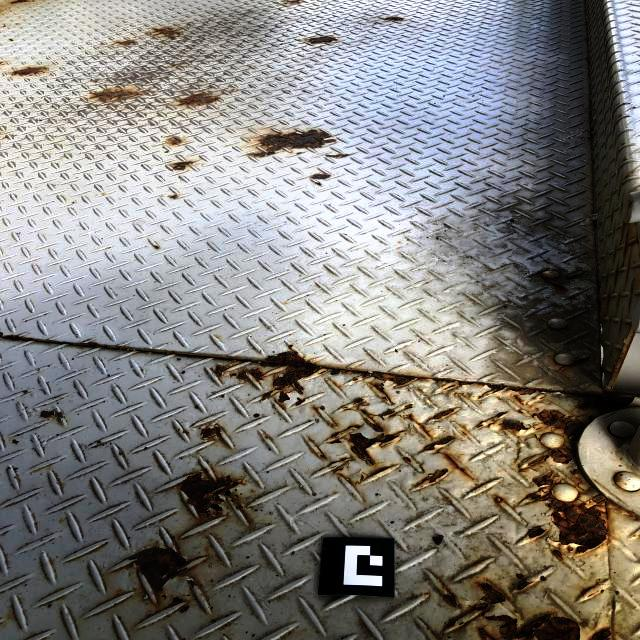Corrosion: (527, 469, 608, 555), (473, 578, 582, 640), (327, 409, 402, 466), (262, 350, 325, 404), (180, 468, 242, 516), (342, 370, 419, 405), (132, 546, 190, 592), (247, 128, 335, 157), (529, 408, 595, 446), (478, 383, 538, 407), (609, 331, 636, 383), (577, 394, 635, 410), (530, 447, 575, 466), (88, 89, 142, 103), (406, 413, 430, 438), (435, 379, 481, 391), (446, 455, 471, 477), (213, 360, 245, 377), (176, 93, 219, 105), (425, 436, 456, 452), (501, 417, 530, 434), (426, 468, 450, 485), (10, 65, 47, 76), (199, 424, 222, 441), (311, 439, 328, 460), (305, 34, 338, 44), (152, 27, 182, 38), (514, 579, 533, 593), (370, 465, 392, 477), (172, 160, 195, 171), (432, 408, 455, 419), (528, 526, 547, 539), (38, 410, 64, 419), (442, 592, 458, 606), (250, 368, 266, 382), (309, 173, 331, 181), (167, 136, 183, 146), (324, 153, 350, 159), (570, 358, 586, 367), (384, 16, 405, 22), (446, 620, 458, 630), (119, 39, 136, 45), (190, 580, 200, 590), (171, 597, 185, 604), (552, 281, 564, 289), (554, 550, 563, 560), (284, 0, 301, 5), (352, 397, 364, 404), (496, 412, 508, 419), (496, 496, 505, 505), (237, 372, 248, 379), (9, 0, 28, 4), (167, 194, 179, 200), (616, 473, 624, 482), (403, 456, 412, 463), (404, 403, 413, 410), (314, 181, 323, 187), (341, 457, 351, 462), (11, 439, 20, 444), (182, 429, 190, 434), (96, 439, 102, 444), (21, 389, 28, 393), (232, 372, 237, 377), (518, 410, 524, 414)
